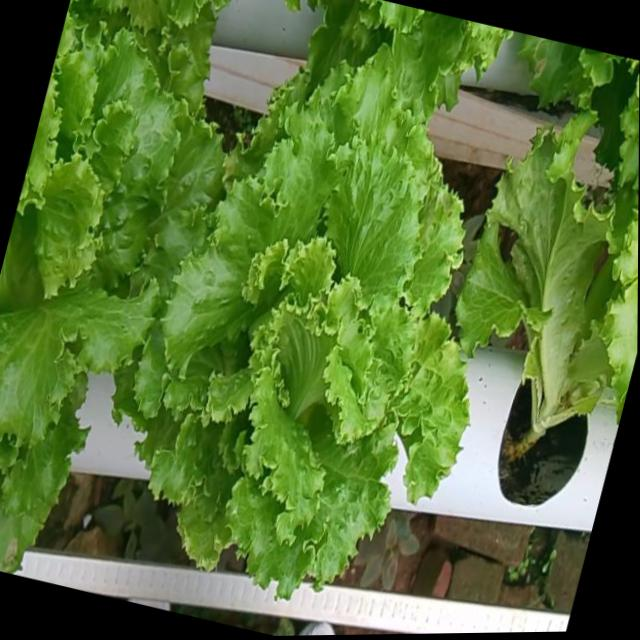Mature: (136, 77, 472, 617), (0, 45, 229, 473)
